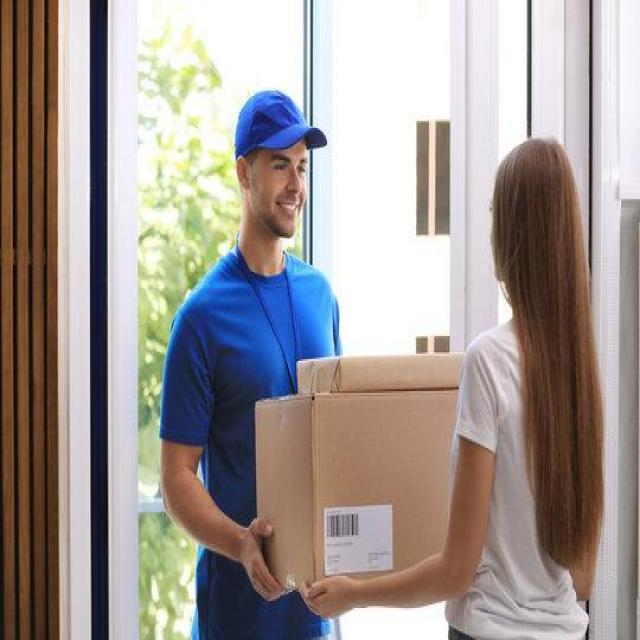box: (251, 385, 463, 596)
